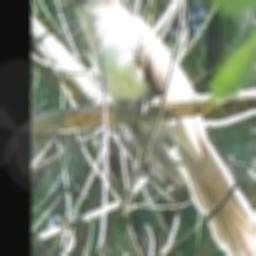Cuckoo: (56, 0, 256, 256)
